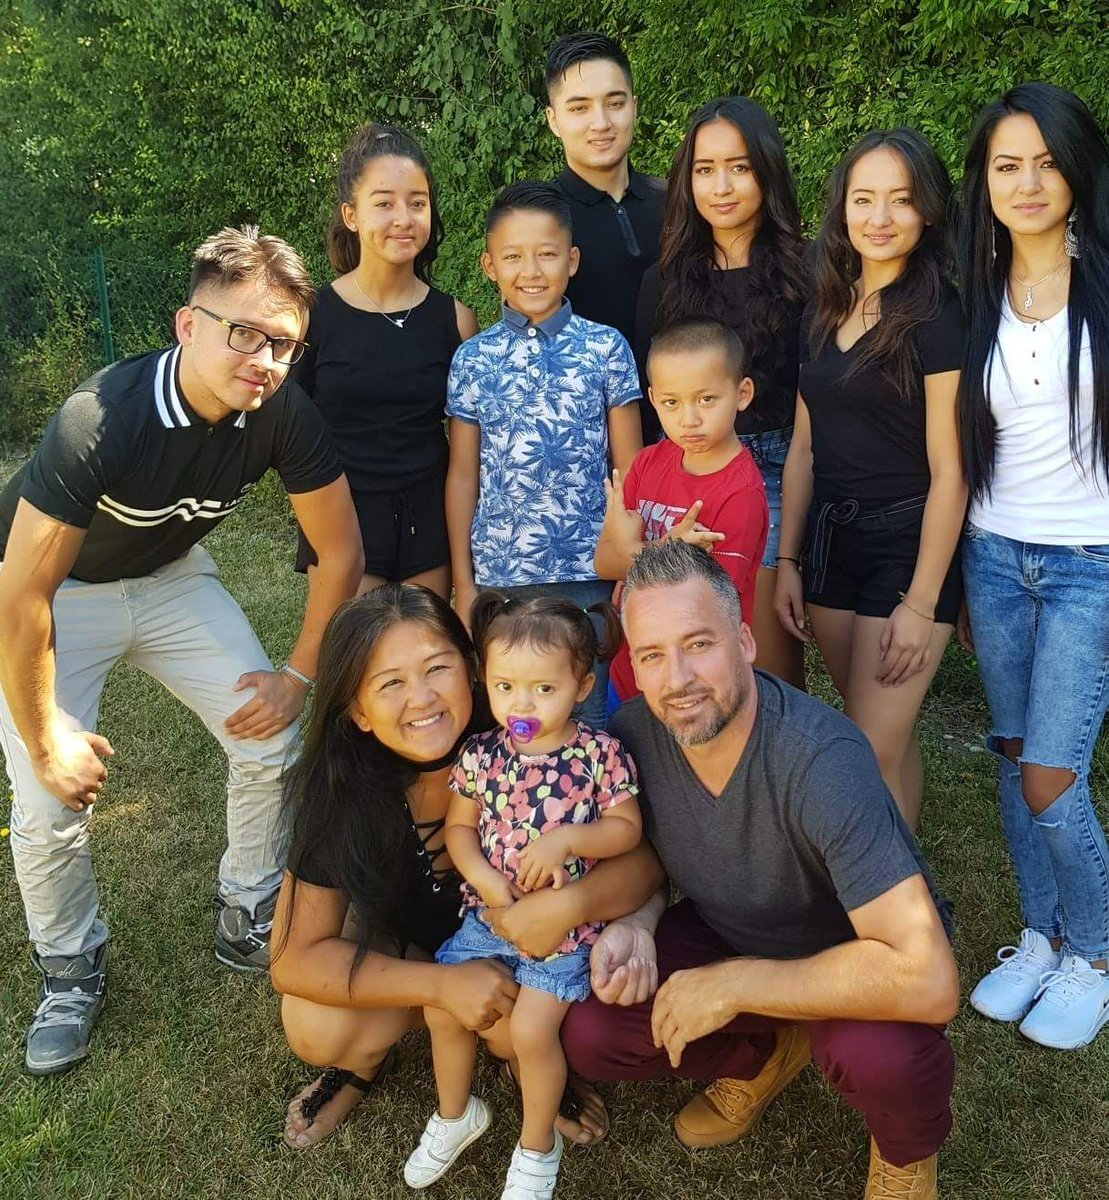without_mask: (351, 615, 479, 769), (185, 274, 307, 426), (627, 598, 742, 747), (979, 109, 1079, 249), (481, 637, 593, 758), (830, 149, 933, 266), (650, 354, 744, 467), (545, 63, 641, 172), (351, 163, 441, 270), (488, 214, 579, 317), (685, 124, 765, 226)
